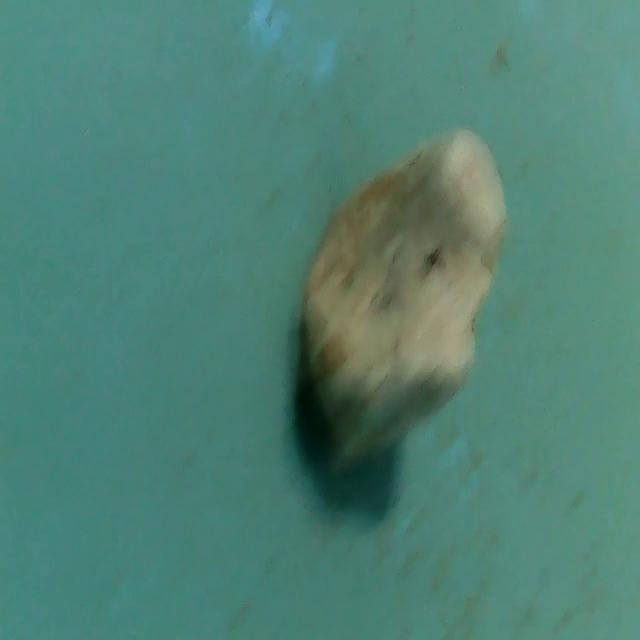rock: (288, 121, 511, 474)
